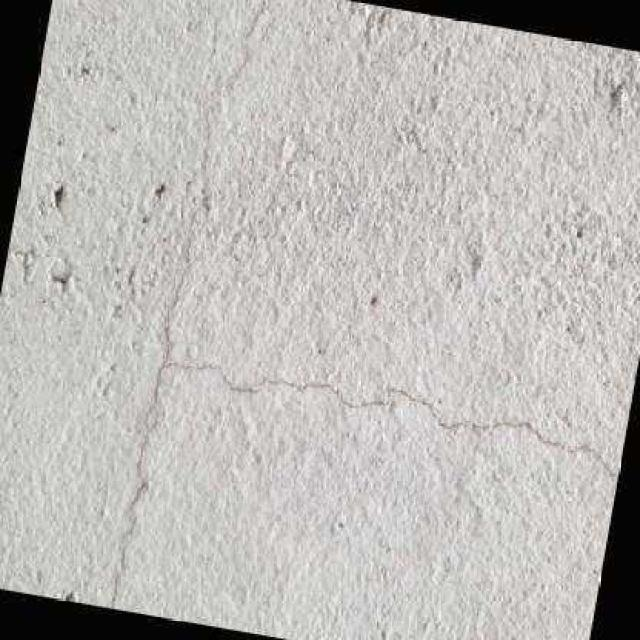D00: (110, 0, 611, 609)
